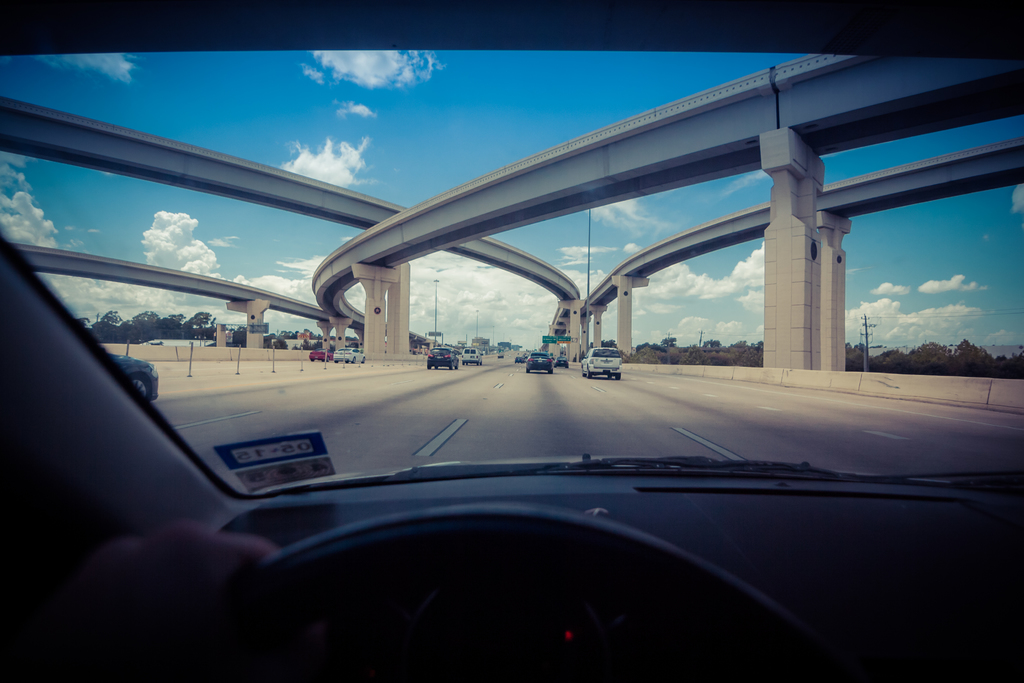Car: (0, 0, 1023, 682), (581, 346, 620, 379), (425, 344, 463, 366), (333, 345, 363, 362), (523, 350, 549, 369), (464, 345, 480, 365), (555, 351, 572, 369), (467, 344, 483, 362), (311, 346, 329, 358)
